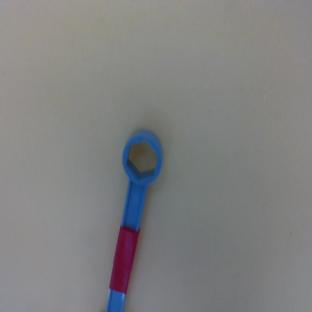part_3_good: (85, 125, 169, 312)
